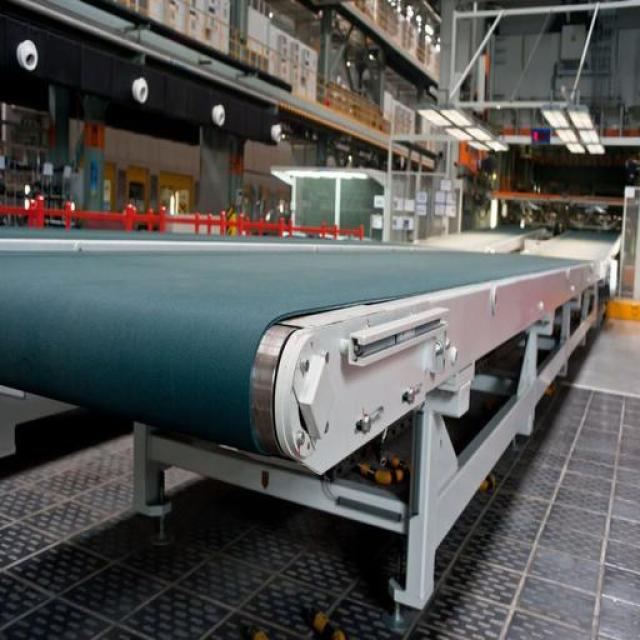conveyor: (0, 242, 591, 446)
